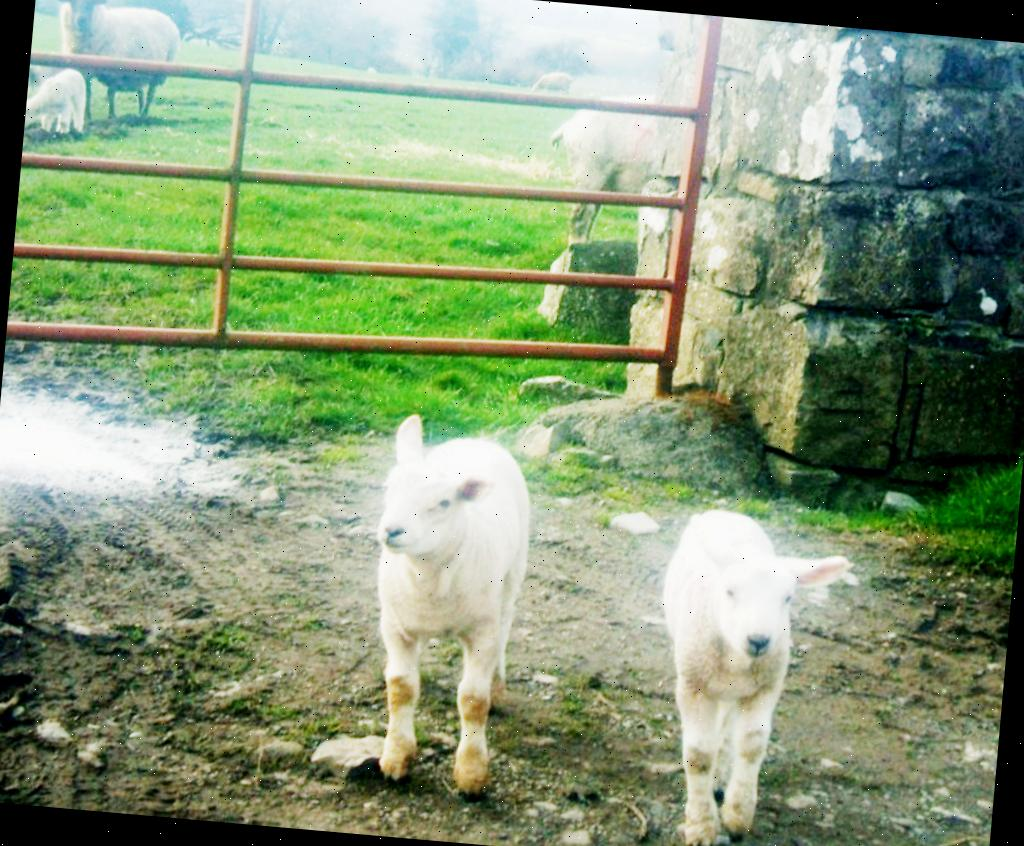Sheep: (637, 504, 846, 846), (354, 415, 538, 797), (48, 0, 186, 119), (24, 64, 90, 136), (532, 71, 570, 96)
